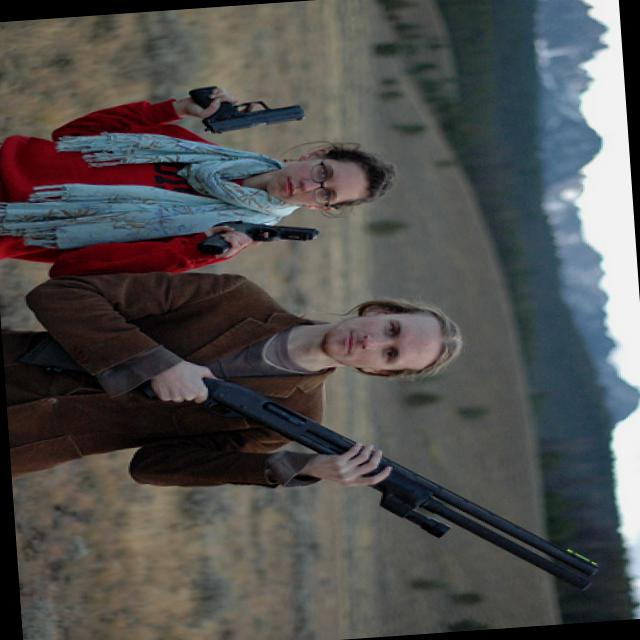handgun: (190, 76, 310, 135), (190, 210, 322, 253)
